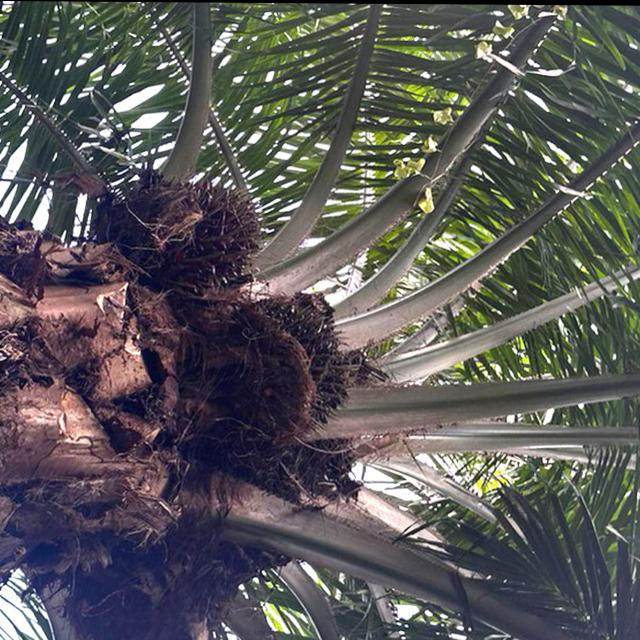unripe: (134, 165, 272, 286), (240, 285, 352, 428)
